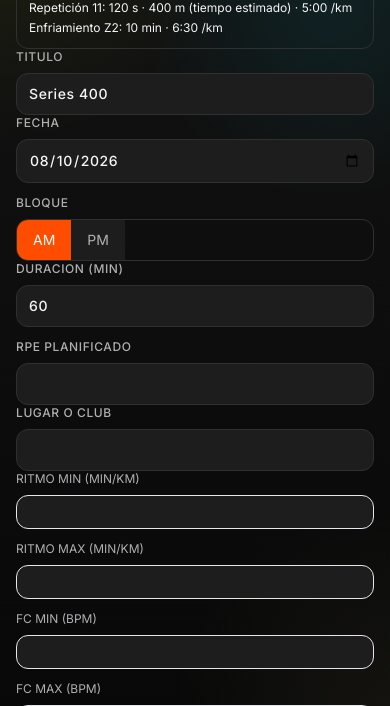
Test: A3: una sesión completada rechaza cambiar duración o plantilla
(page scrolled)
Replace the text in the number field labelled "Duracion (min)" with "45": (195, 306) top-left (16, 285), bottom-right (374, 327)
(page scrolled)
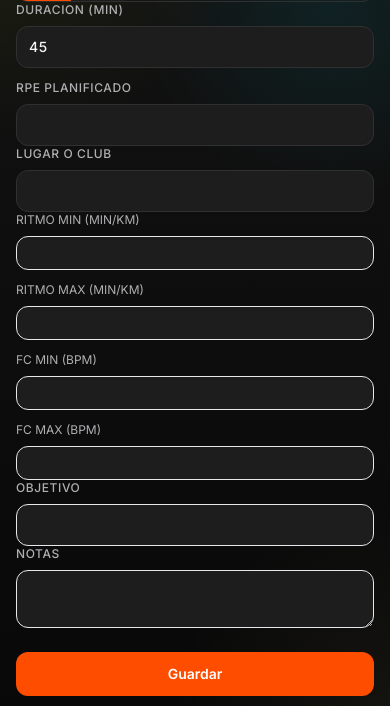
Click the button "Guardar": (195, 674) top-left (16, 652), bottom-right (374, 696)
(page scrolled)
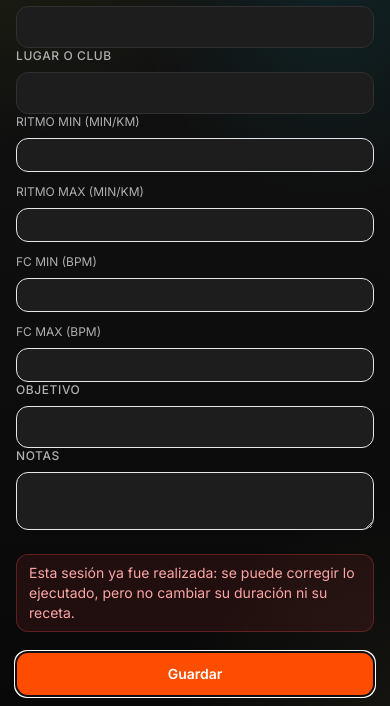
Expected: the message shows "ya fue realizada", top-left (29, 564), bottom-right (355, 621)
